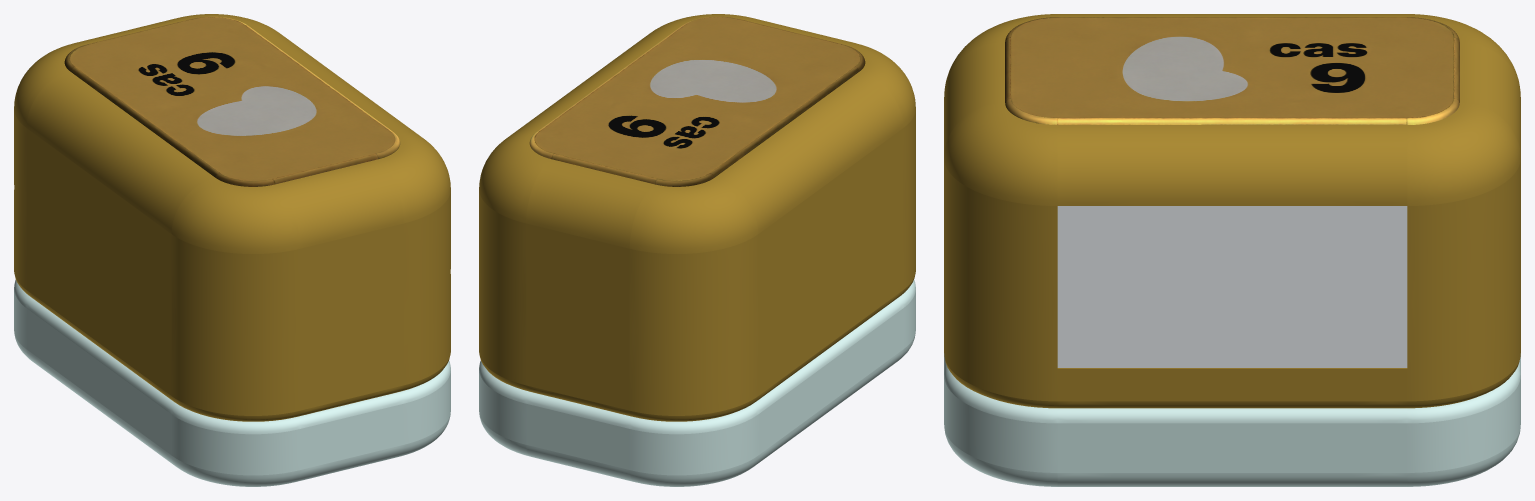
The model's file is cas9storage.fbx.
3 views of the same model, side by side, from view 1: azimuth 30°, elevation 25°; view 2: azimuth 150°, elevation 25°; view 3: azimuth 270°, elevation 25° (orthographic). The views are drawn at different scales.
Visible parts, largest first — view 1: 物件_335, 物件_332, 物件_336; view 2: 物件_335, 物件_332, 物件_336; view 3: 物件_335, 物件_333, 物件_332, 物件_336.
Boxes of the visible parts, <box> form: 物件_335: <box>14,14,450,421</box>; 物件_332: <box>64,16,400,186</box>; 物件_336: <box>14,279,450,486</box>; 物件_335: <box>479,14,915,421</box>; 物件_332: <box>529,16,865,186</box>; 物件_336: <box>479,279,915,486</box>; 物件_335: <box>944,14,1520,408</box>; 物件_333: <box>1057,206,1407,367</box>; 物件_332: <box>1005,17,1459,124</box>; 物件_336: <box>944,353,1520,486</box>.
Bounding box in the file's own units: 12.69 × 13.15 × 19.71.
